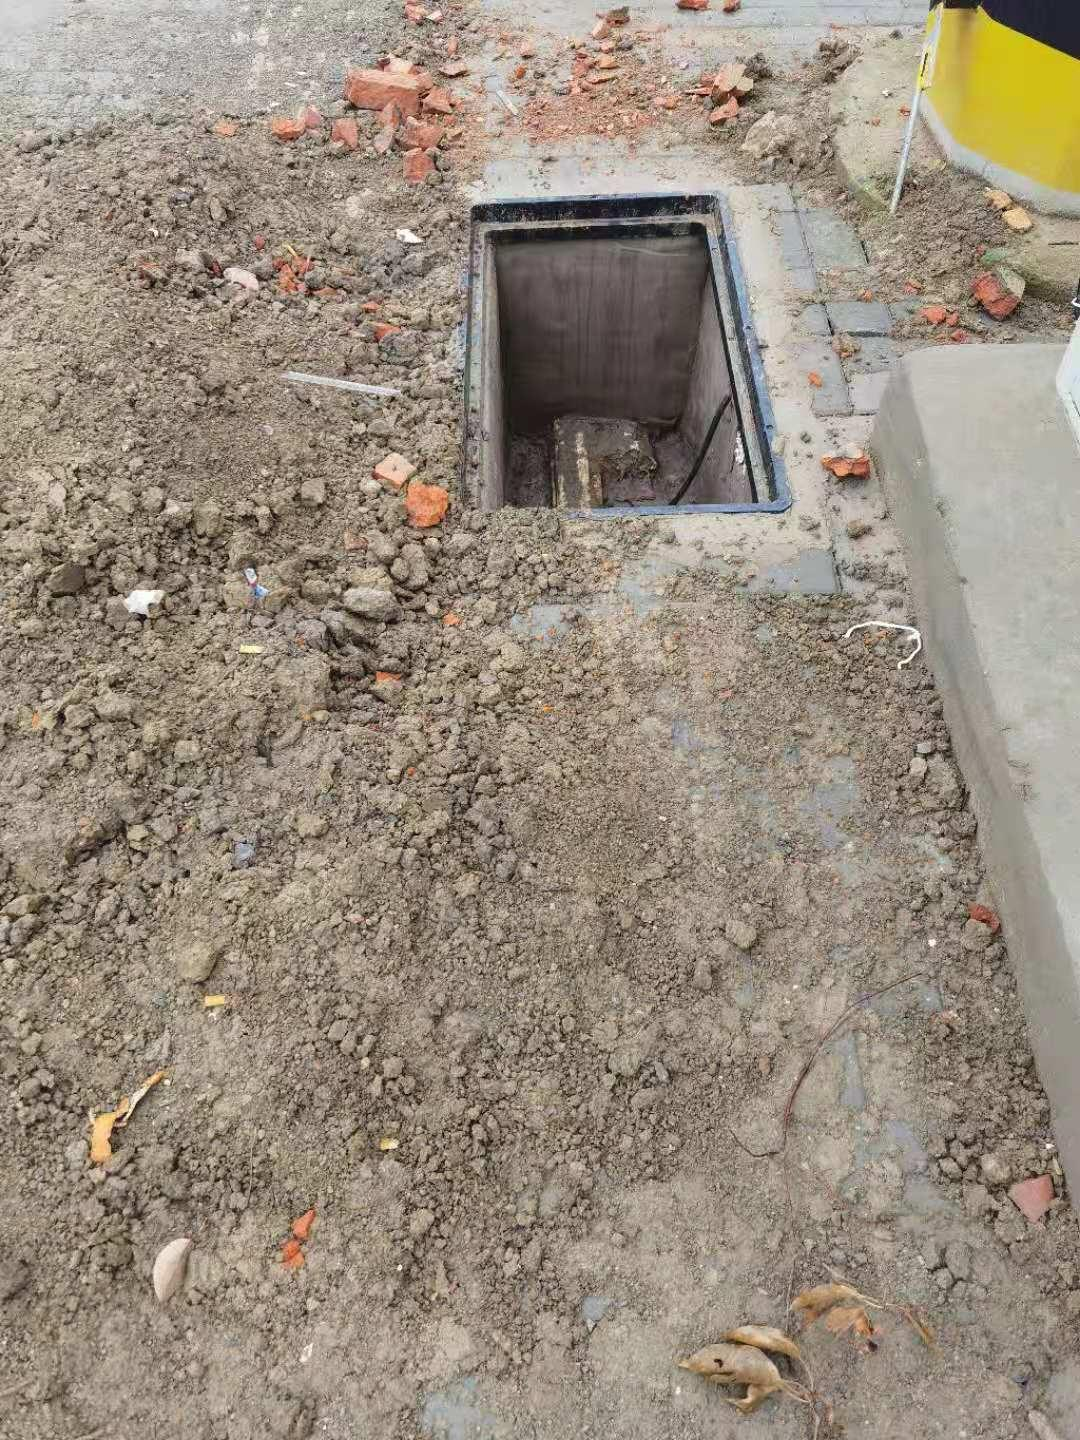wellcover: (406, 194, 815, 547)
